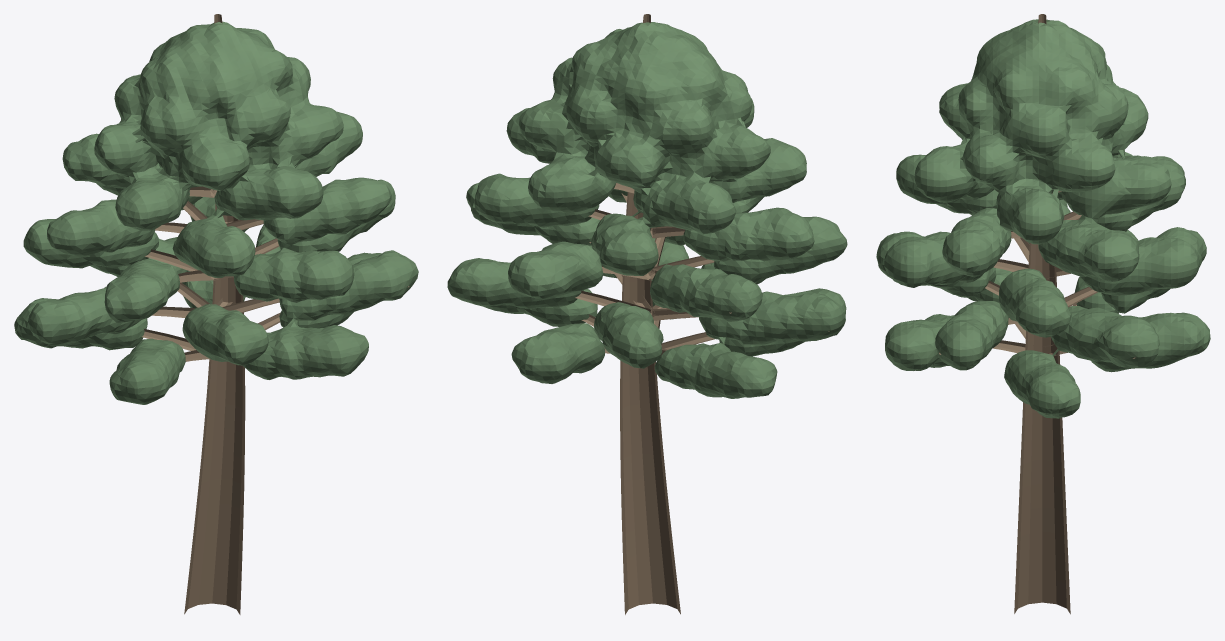
File: taiga_pine.glb
3 views of the same model, side by side, from view 1: azimuth 30°, elevation 25°; view 2: azimuth 150°, elevation 25°; view 3: azimuth 270°, elevation 25° (orthographic).
Visible parts, largest first — view 1: taiga_pine; view 2: taiga_pine; view 3: taiga_pine.
Boxes of the visible parts, x1,y1,x2,y2 form: taiga_pine: (14,14,418,614); taiga_pine: (447,14,847,614); taiga_pine: (876,14,1210,614).
Bounding box in the file's own units: 5.22 × 8 × 4.02.
